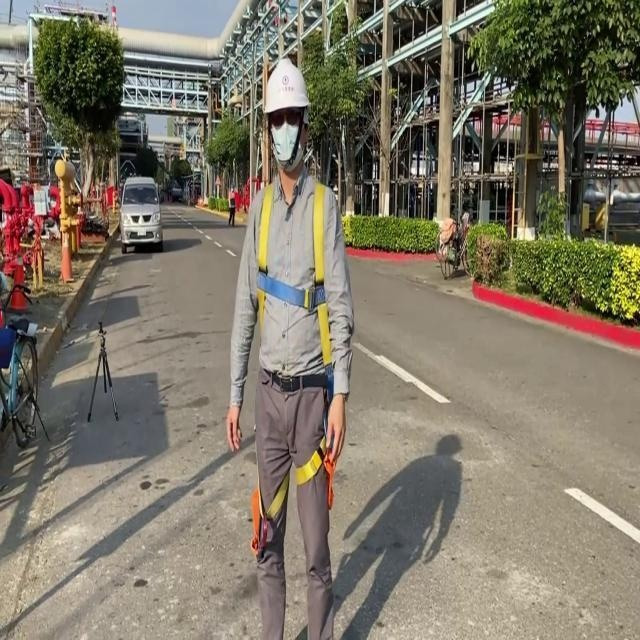Arnes_seguridad: (245, 185, 345, 497)
